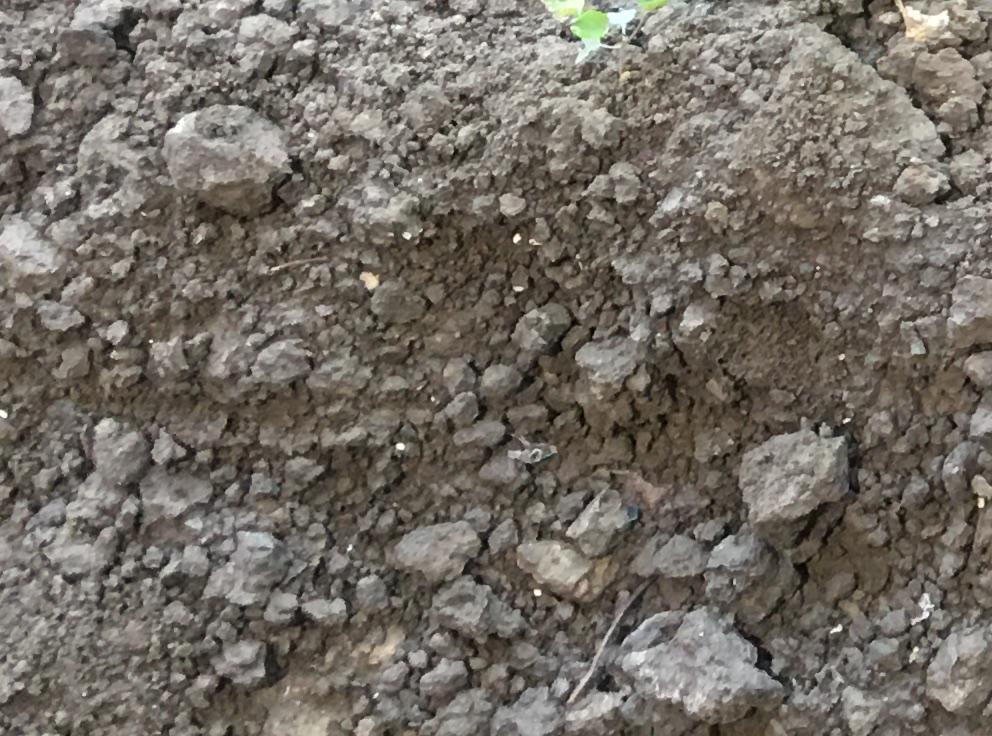block: (623, 619, 780, 724), (162, 106, 288, 225), (740, 429, 853, 538)
